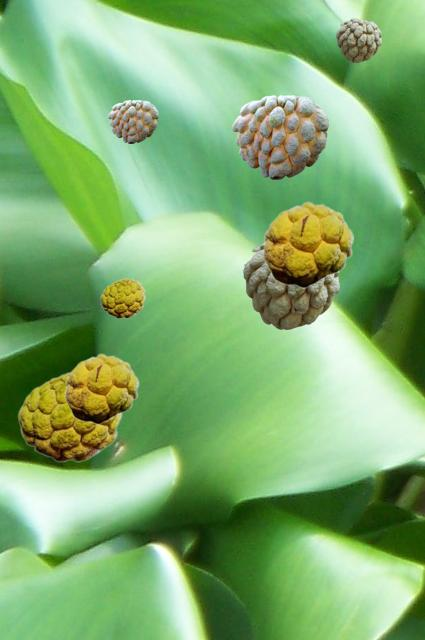atis: (17, 371, 121, 461), (243, 243, 338, 328), (232, 95, 327, 178), (262, 201, 353, 287), (64, 353, 138, 423), (108, 100, 157, 142), (336, 18, 380, 61), (100, 278, 144, 317)
